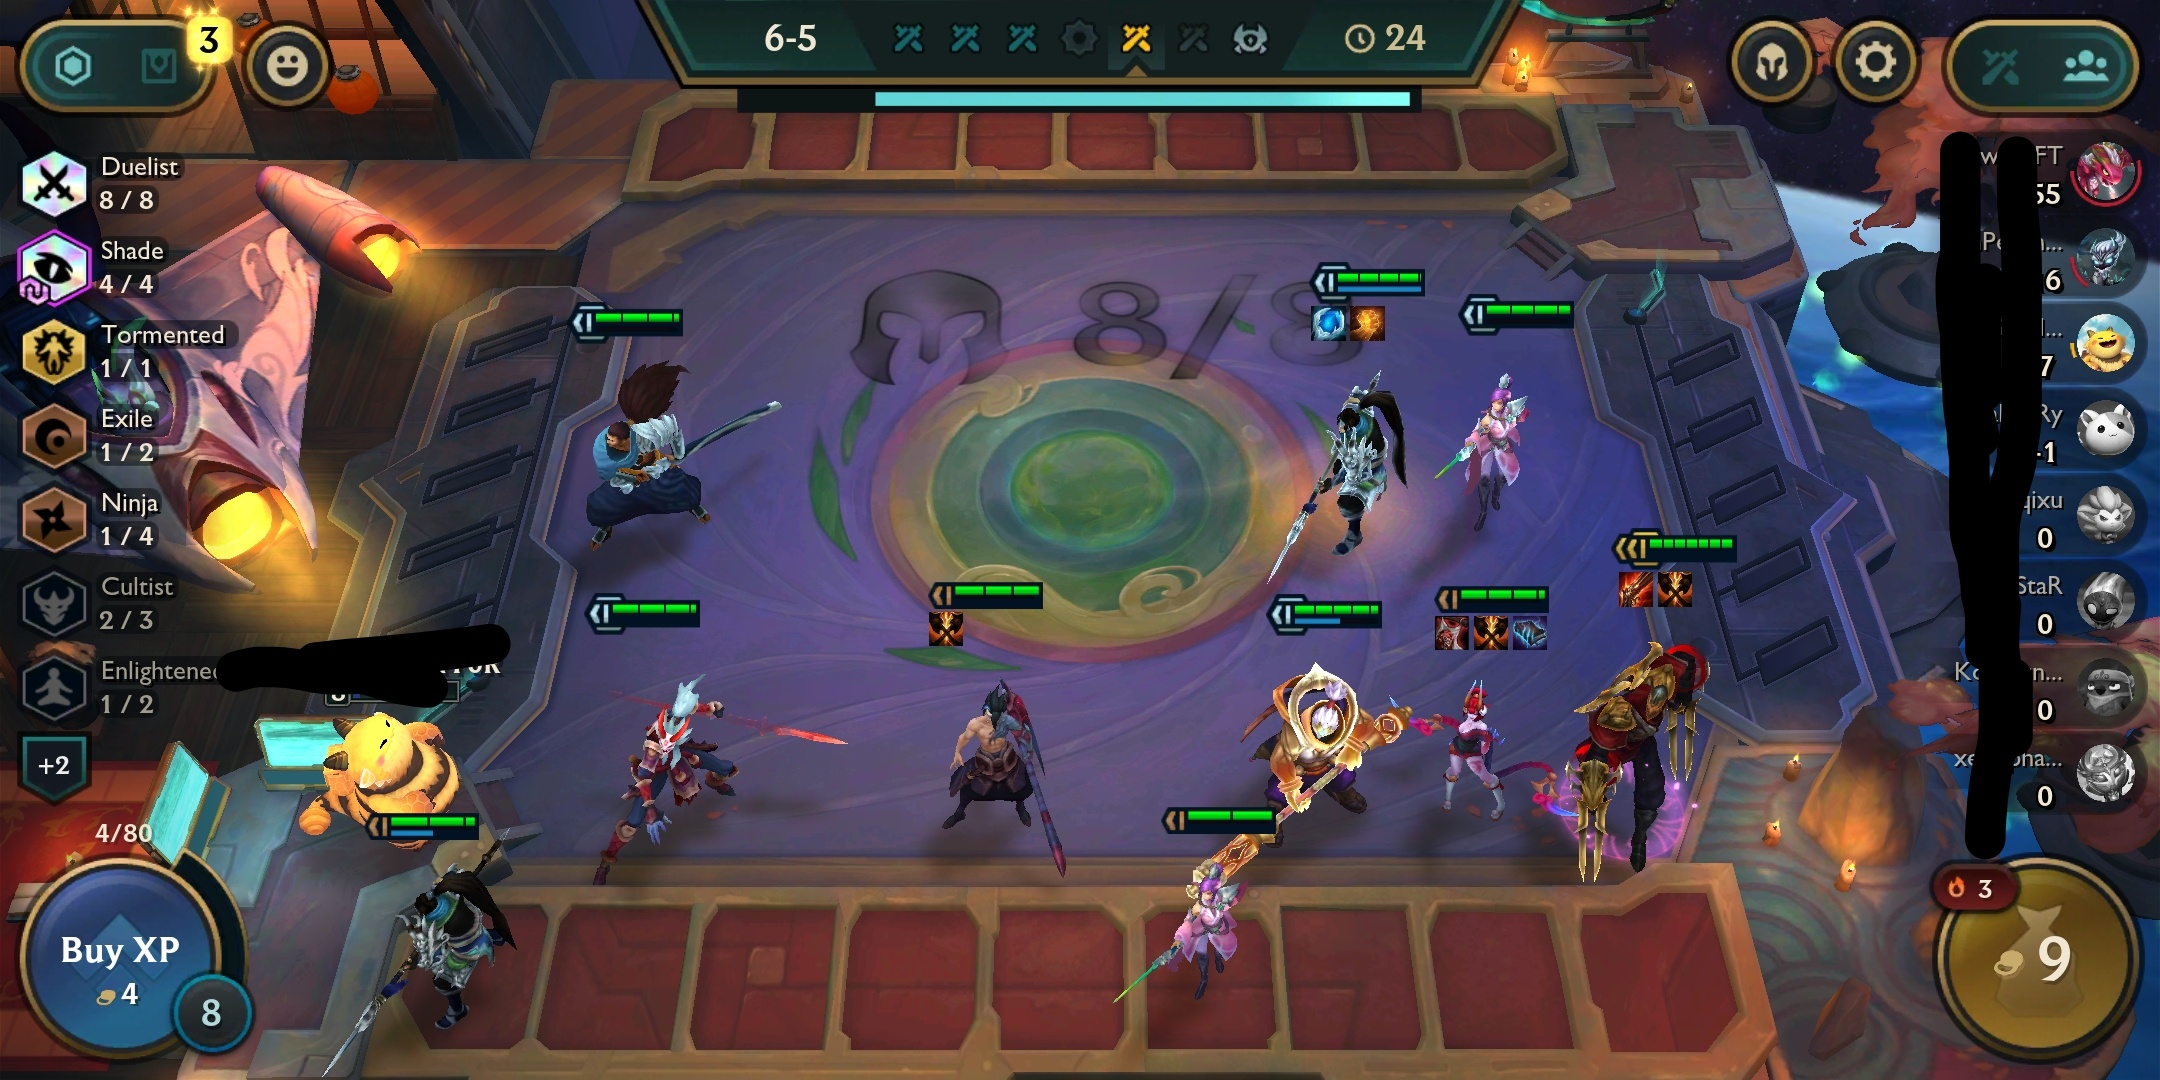1star_evelynn: (1375, 572, 1565, 864)
1star_fiora: (1098, 789, 1302, 1035)
1star_kayn: (884, 561, 1108, 895)
1star_xinzhao: (293, 795, 534, 1080)
2star_fiora: (1413, 280, 1597, 572)
2star_jax: (1178, 579, 1420, 913)
2star_kalista: (561, 574, 869, 906)
2star_xinzhao: (1234, 238, 1441, 603)
2star_yasuo: (544, 278, 810, 576)
2star_zed: (1526, 518, 1758, 906)
2star_zed_chosen: (1525, 517, 1756, 905)
item_duelist: (1648, 562, 1697, 612), (922, 605, 970, 654), (1464, 606, 1513, 654)
item_frozenheart: (1307, 298, 1356, 346)
item_hoj: (1342, 299, 1391, 349)
item_morello: (1506, 607, 1554, 657)
item_rfc: (1609, 562, 1659, 612)
item_zeke: (1427, 606, 1475, 654)
trait_cultist2: (1, 561, 256, 647)
trait_duelist8: (1, 141, 256, 227)
trait_enlightened1: (1, 642, 256, 727)
trait_exile1: (1, 394, 256, 479)
trait_ninja1: (1, 475, 256, 561)
trait_shade4: (1, 223, 256, 309)
trait_shade_chosen: (6, 222, 101, 315)
trait_tormented1: (1, 306, 256, 393)
